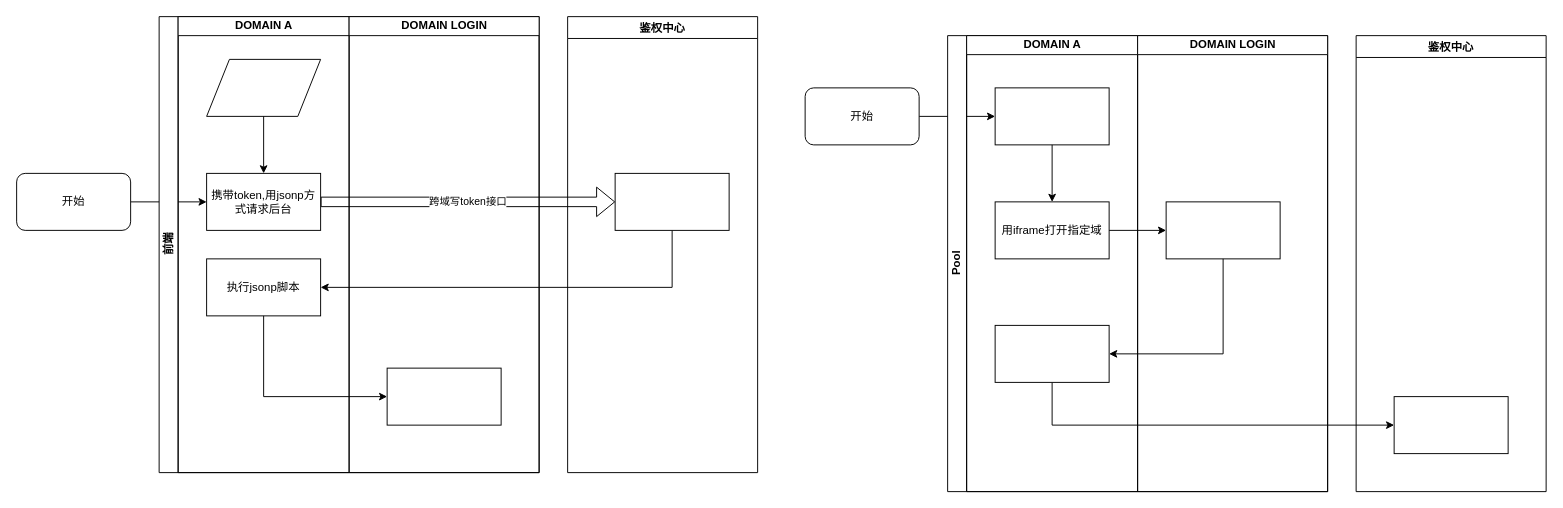
Some shapes in this 1563 by 508 pixel diagram are drawn without their labels. Here are the shapes that lost their labels. From the top down, the centre of each, then its label:
At [263,87]: "请求头携带token".
At [1051,116]: "页面加载成功".
At [671,201]: "将token信息写入js脚本中".
At [1222,230]: "利用postMessage向指定页请求token信息".
At [1051,353]: "有则返回token,无则返回空".
At [443,396]: "用iframe打开指定域,用postMessage写入token信息".
At [1450,425]: "携带token请求业务系统".
